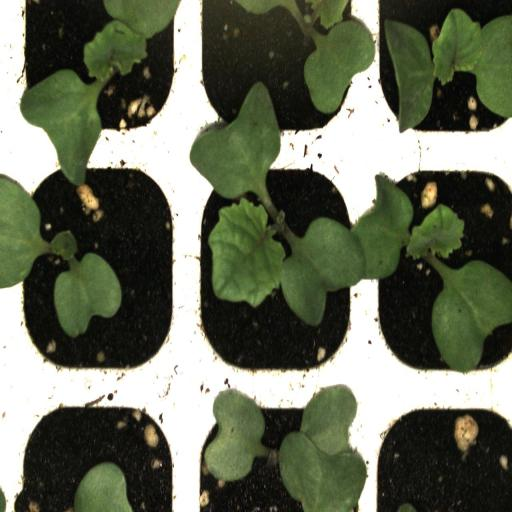seedling: (178, 158, 362, 386), (7, 155, 185, 381), (366, 158, 512, 390), (6, 0, 192, 154), (370, 0, 512, 154)
